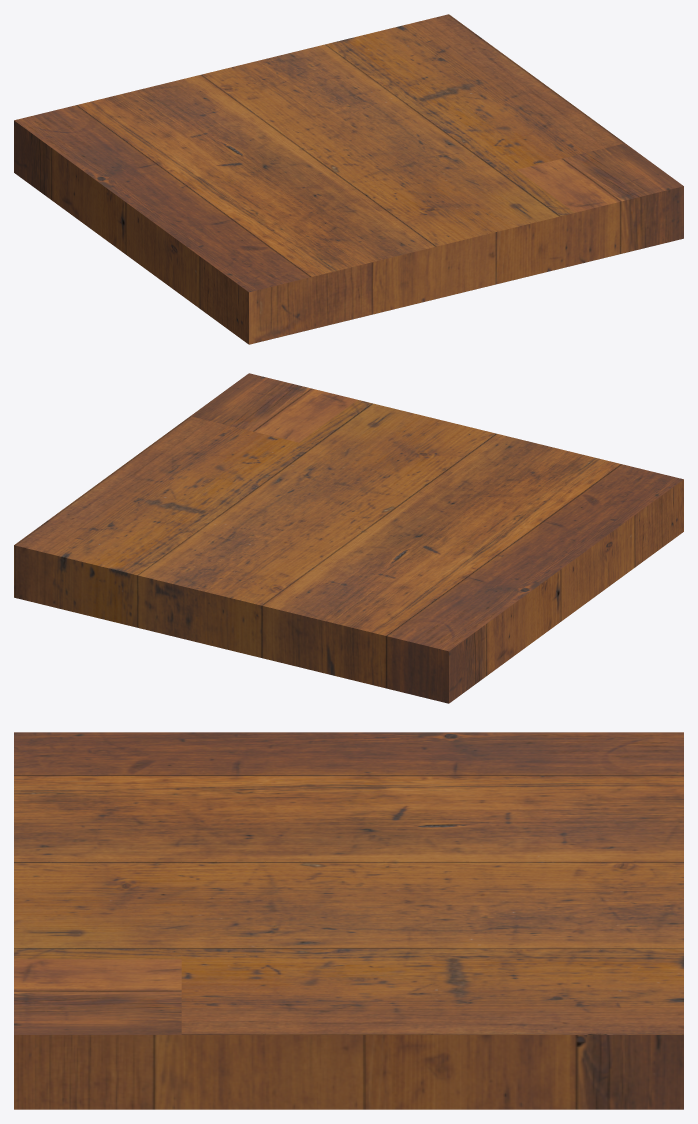
The model's file is MS_Floor.fbx.
3 renders of one model, top to bottom at view 1: azimuth 30°, elevation 25°; view 2: azimuth 150°, elevation 25°; view 3: azimuth 270°, elevation 25°, orthographic. The views are drawn at different scales.
Visible parts, largest first — view 1: SB_Floor.002; view 2: SB_Floor.002; view 3: SB_Floor.002.
Boxes of the visible parts, bbox=[...] form: SB_Floor.002: bbox=[14, 14, 683, 344]; SB_Floor.002: bbox=[14, 373, 683, 703]; SB_Floor.002: bbox=[14, 732, 683, 1109].
Bounding box in the file's own units: 1907 × 220 × 1784.
